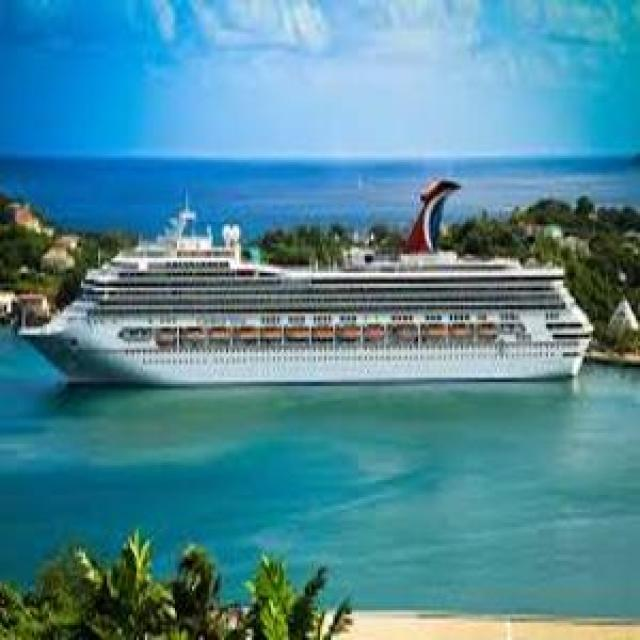passenger ship: (18, 202, 586, 382)
